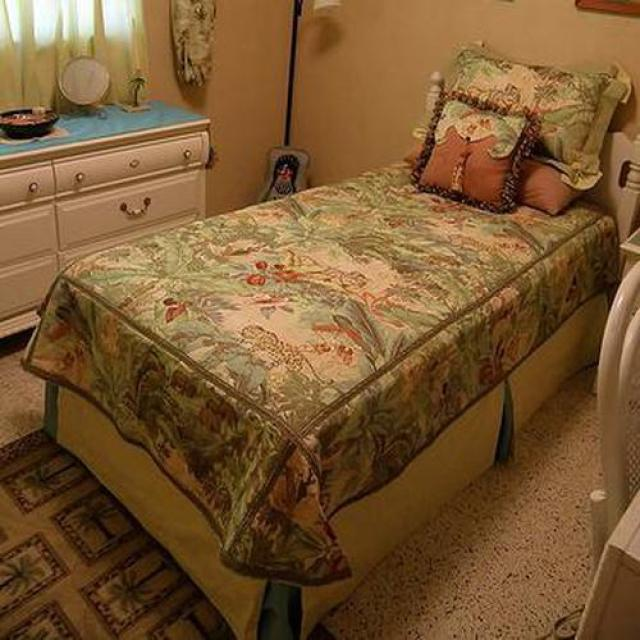bed: (23, 47, 628, 640)
